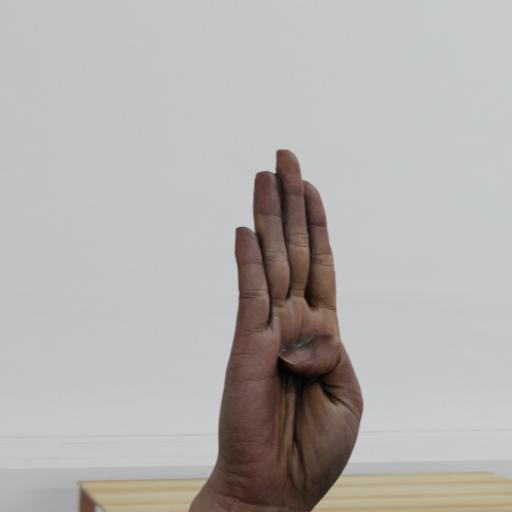B: (216, 142, 370, 512)
